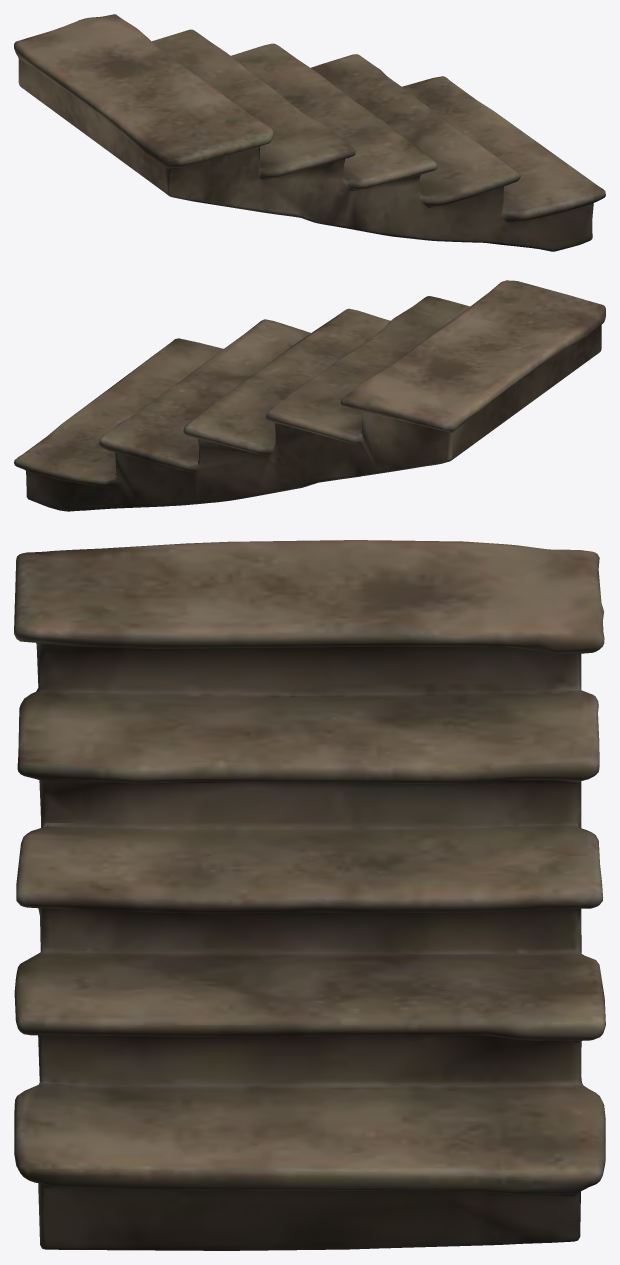
The model's file is ancient-wood-straight-staircase-v001.glb.
The picture shows the model from 3 angles, top to bottom: view 1: azimuth 30°, elevation 25°; view 2: azimuth 150°, elevation 25°; view 3: azimuth 270°, elevation 25°; orthographic projection. The views are drawn at different scales.
Visible parts, largest first — view 1: ancient-wood-straight-staircase; view 2: ancient-wood-straight-staircase; view 3: ancient-wood-straight-staircase.
Boxes of the visible parts, box(x1,y1,x2,y2) form: ancient-wood-straight-staircase: box(14, 14, 605, 251); ancient-wood-straight-staircase: box(14, 280, 605, 511); ancient-wood-straight-staircase: box(14, 540, 605, 1250).
Size of the model in its own units: 2.7 by 1.16 by 1.77.
1 material, 1 textured.
